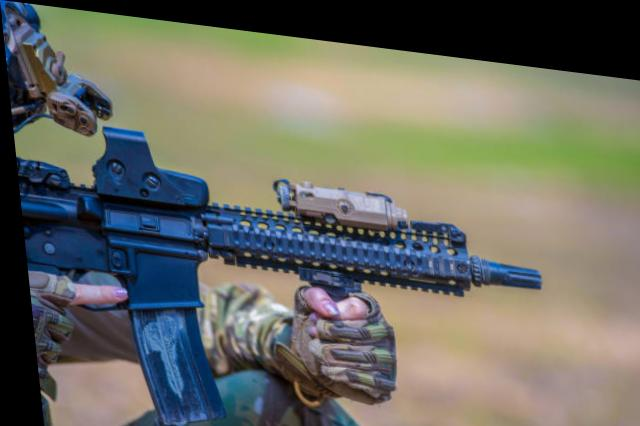other: (0, 0, 401, 424)
